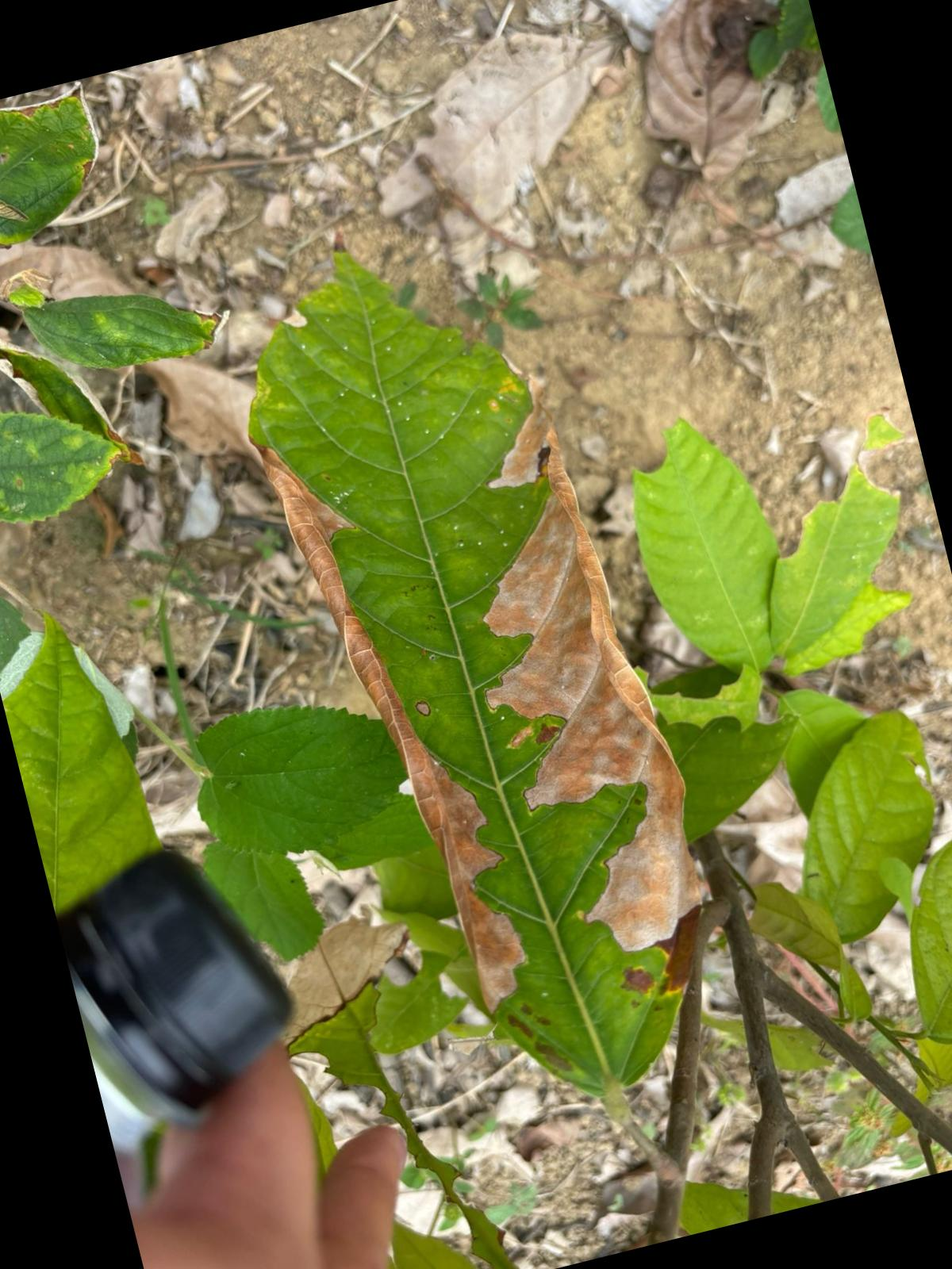Potasio: (250, 254, 700, 1108)
